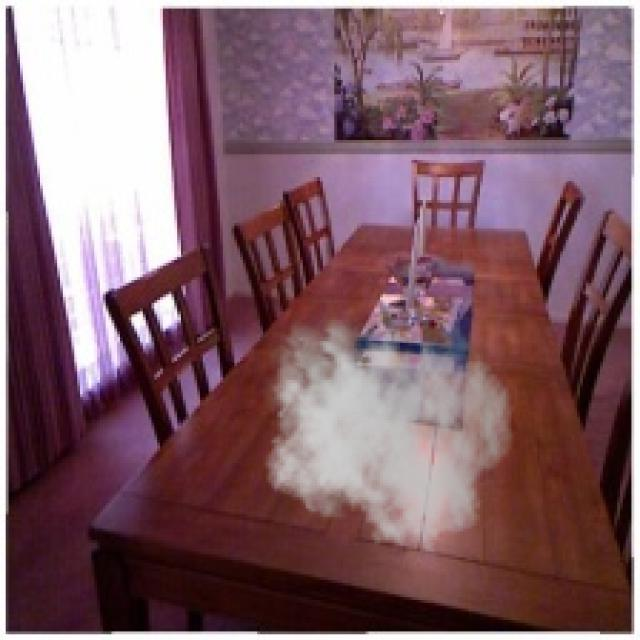smoke: (257, 306, 514, 554)
